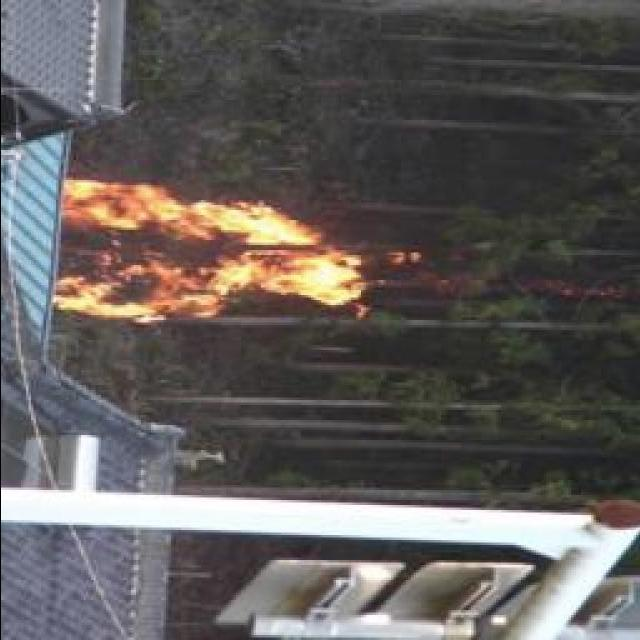Fire: (54, 177, 378, 333)
